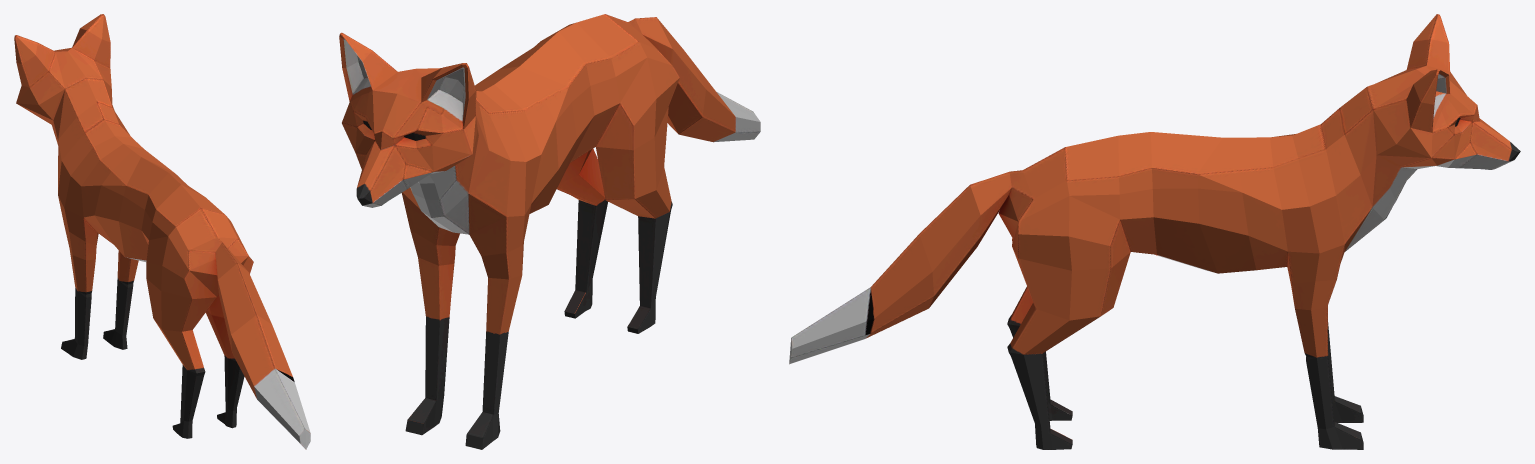
Rendered from low_poly_fox.glb.
3 views of the same model, side by side, from view 1: azimuth 30°, elevation 25°; view 2: azimuth 150°, elevation 25°; view 3: azimuth 270°, elevation 25° (orthographic). The views are drawn at different scales.
Visible parts, largest first — view 1: Plane.001; view 2: Plane.001; view 3: Plane.001.
Boxes of the visible parts, x1=… form: Plane.001: x1=14, y1=14, x2=310, y2=449; Plane.001: x1=339, y1=14, x2=760, y2=449; Plane.001: x1=789, y1=14, x2=1520, y2=449.
Bounding box in the file's own units: 0.3816 × 1.18 × 2.
1 material, 1 textured.
